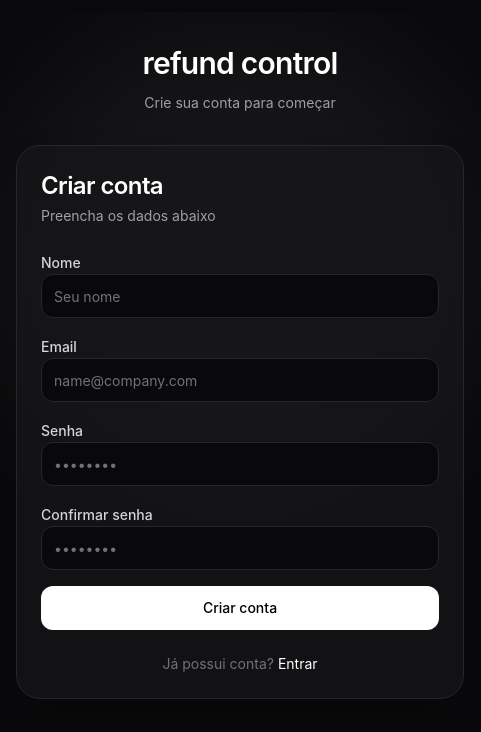
it: SignupForm - validações › deve exibir erro quando nome está vazio
Click the button "Criar conta" at point(240, 608), box [41,586,439,630]
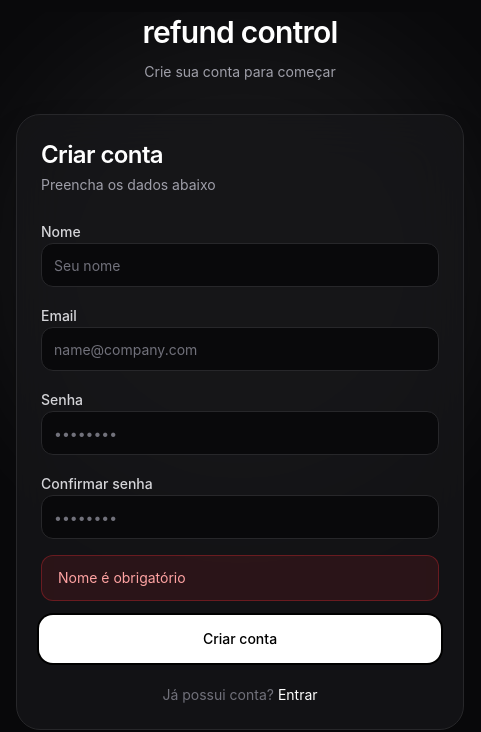
expect the text "Nome é obrigatório" is shown: met, box [41,555,439,601]
